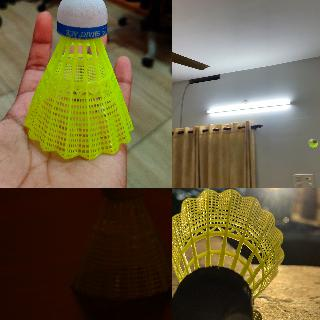shuttlecock: (22, 0, 133, 161), (172, 190, 283, 319), (70, 188, 171, 298), (308, 138, 318, 148)
